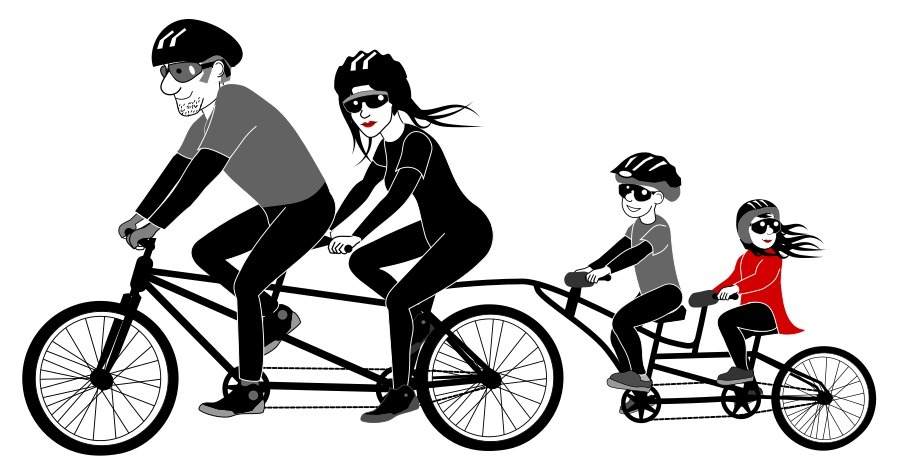bicycle: (14, 228, 873, 454)
person: (113, 18, 332, 410), (324, 46, 486, 419), (582, 151, 688, 392), (713, 195, 806, 408)
